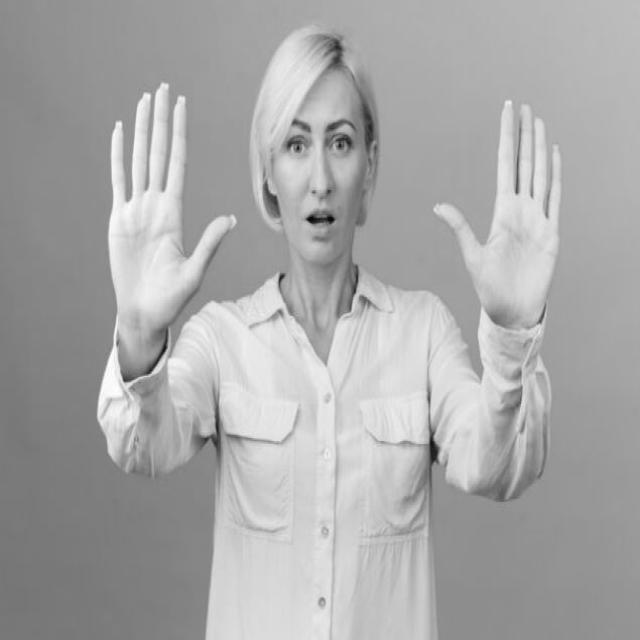stop: (102, 76, 241, 348), (430, 92, 567, 335)
